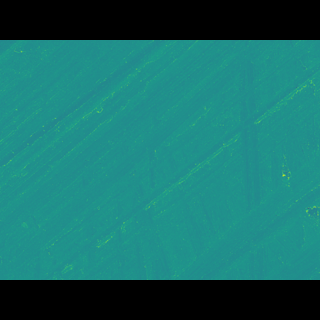Loch: (166, 156, 320, 251), (232, 84, 261, 201)
